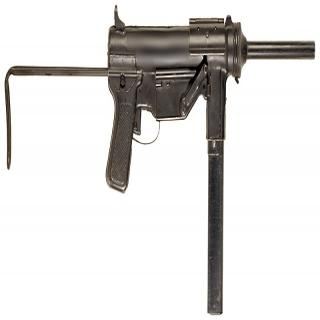gun: (4, 6, 314, 311)
